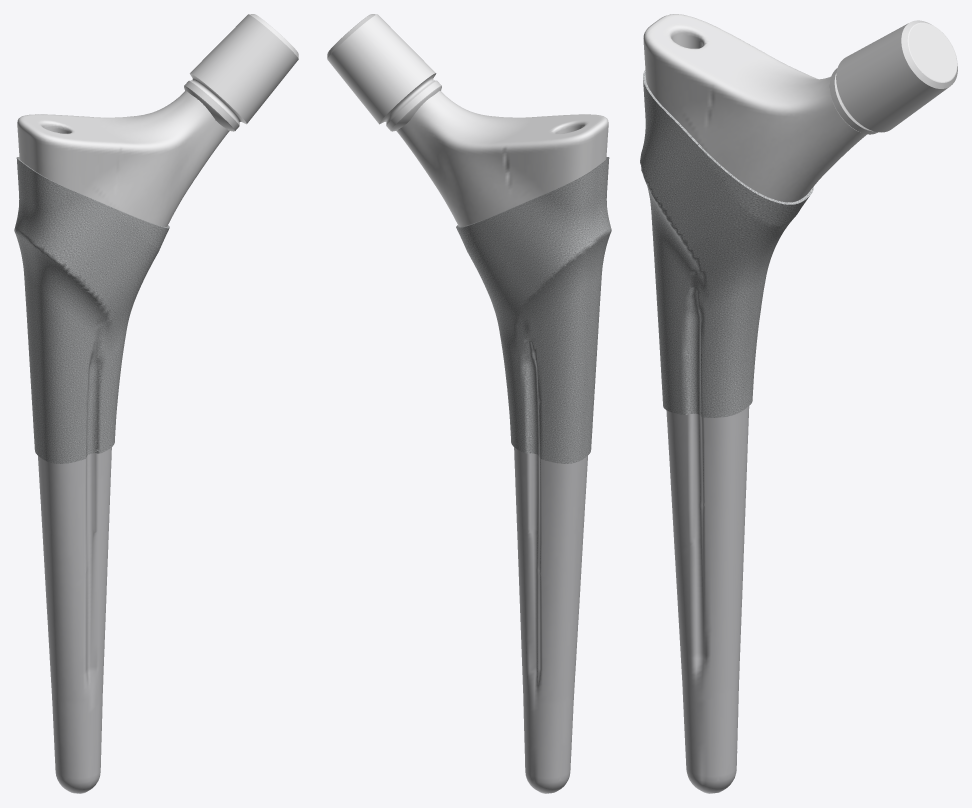
Rendered from deltaway_stem_lod0.glb.
3 views of the same model, side by side, from view 1: azimuth 30°, elevation 25°; view 2: azimuth 150°, elevation 25°; view 3: azimuth 330°, elevation 25° (orthographic). The views are drawn at different scales.
Parts seen in each view (by area): view 1: DeltaWay_stem_4_lod0; view 2: DeltaWay_stem_4_lod0; view 3: DeltaWay_stem_4_lod0.
Boxes of the visible parts, x1=… form: DeltaWay_stem_4_lod0: x1=14, y1=14, x2=298, y2=793; DeltaWay_stem_4_lod0: x1=327, y1=14, x2=611, y2=793; DeltaWay_stem_4_lod0: x1=640, y1=14, x2=957, y2=793.
Bounding box in the file's own units: 0.0568 × 0.1473 × 0.0178.
3 materials, 1 textured.
